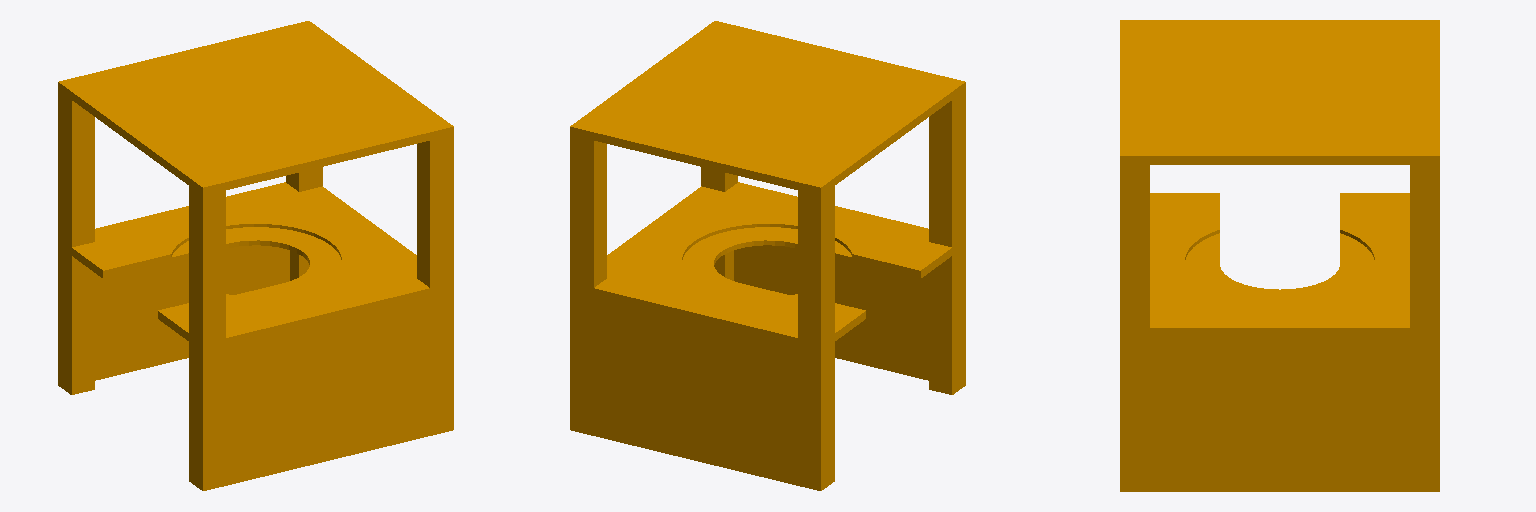
URDF robot description (camera_shousing):
<?xml version="1.0"?>
<robot name="camera_shousing">

  <link name="camera_shousing_link">

    <visual>
      <origin
        xyz="0 0 0"
        rpy="1.57079632679 0 0"/>

      <geometry>
        <mesh
          filename="package://camera_housing/meshes/camera_shousing.stl"
          scale="0.001 0.001 0.001"/>
      </geometry>
    </visual>

    <collision>
      <origin
        xyz="0 0 0"
        rpy="1.57079632679 0 0"/>

      <geometry>
        <mesh
          filename="package://camera_housing/meshes/camera_shousing.stl"
          scale="0.001 0.001 0.001"/>
      </geometry>
    </collision>

  </link>

</robot>

--- What the picture shows (computed from the rendered views, not written in the file) ---
3 views of the same robot in one strip: view 1: azimuth 30°, elevation 25°; view 2: azimuth 150°, elevation 25°; view 3: azimuth 270°, elevation 25° (orthographic).
Robot: camera_shousing — 1 links, 0 joints (none); root link camera_shousing_link; default pose: all joints at 0.
Links seen in each view (by area): view 1: camera_shousing_link; view 2: camera_shousing_link; view 3: camera_shousing_link.
Boxes of the visible links, x1,y1,x2,y2 form: camera_shousing_link: (58, 21, 453, 490); camera_shousing_link: (570, 21, 965, 490); camera_shousing_link: (1120, 20, 1439, 491).
Size in the robot's own frame: 0.16 by 0.16 by 0.185 metres.
1 mesh visuals loaded from 1 distinct referenced files (1 binary STL).
